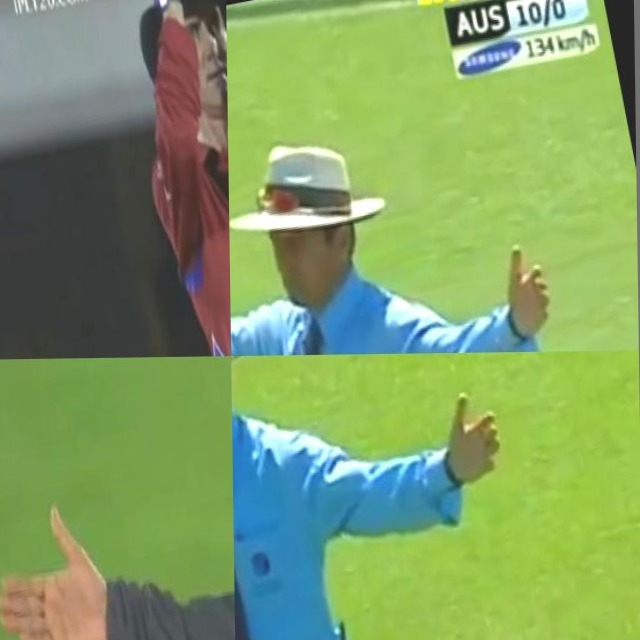No_Ball: (231, 351, 568, 640), (0, 356, 236, 640)
Six: (87, 0, 231, 358)
Wide: (227, 85, 613, 356)
